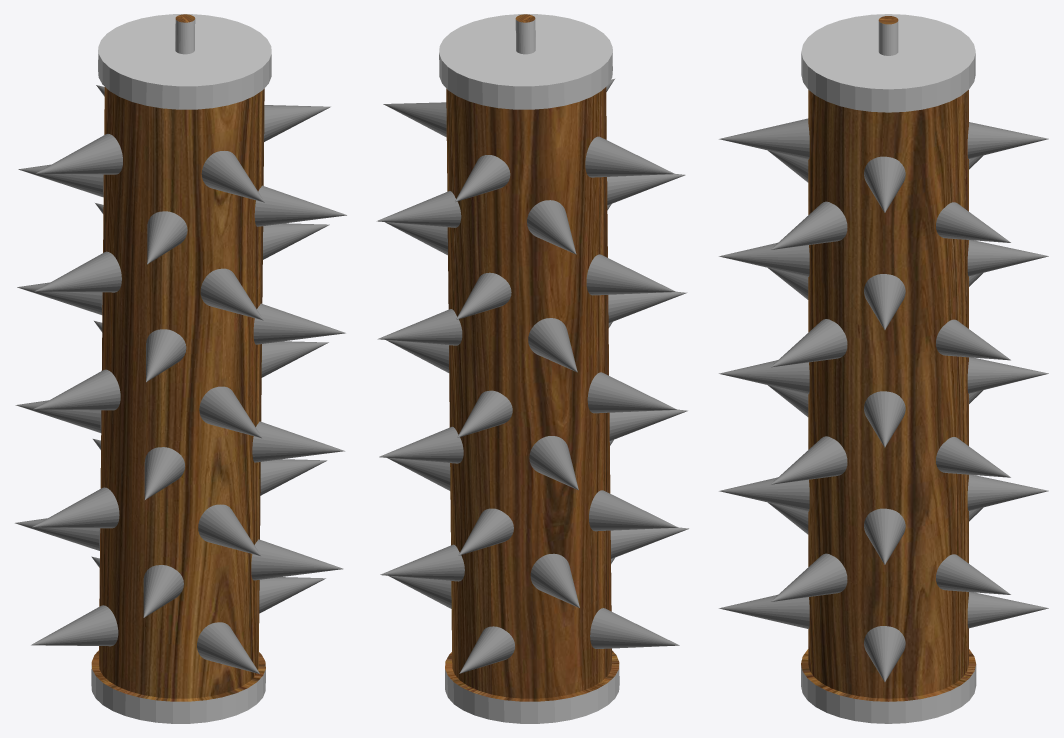
The model's file is 1spikeRoll.fbx.
The picture shows the model from 3 angles, left to right: view 1: azimuth 30°, elevation 25°; view 2: azimuth 150°, elevation 25°; view 3: azimuth 270°, elevation 25°; orthographic projection.
Parts seen in each view (by area): view 1: Cylinder, Cylinder.002, Cone.001, Cone.003, Cone.007, Cone, Cone.004, Cone.006, Cylinder.001; view 2: Cylinder, Cylinder.002, Cone.001, Cone.002, Cone.005, Cone.006, Cone.004, Cone, Cylinder.001; view 3: Cylinder, Cylinder.002, Cone.003, Cone.002, Cone.007, Cone, Cone.005, Cylinder.001, Cone.004.
Part boxes in pixels (left/top/right/bottom): Cylinder: left=91, top=14, right=265, bottom=701; Cylinder.002: left=98, top=14, right=271, bottom=109; Cone.001: left=31, top=134, right=122, bottom=646; Cone.003: left=197, top=151, right=264, bottom=673; Cone.007: left=251, top=185, right=346, bottom=580; Cone: left=259, top=105, right=330, bottom=613; Cone.004: left=143, top=211, right=187, bottom=617; Cone.006: left=15, top=164, right=103, bottom=550; Cylinder.001: left=91, top=666, right=265, bottom=723; Cylinder: left=445, top=14, right=619, bottom=701; Cylinder.002: left=439, top=14, right=612, bottom=109; Cone.001: left=585, top=136, right=679, bottom=648; Cone.002: left=455, top=155, right=514, bottom=673; Cone.005: left=376, top=191, right=464, bottom=581; Cone.006: left=527, top=200, right=579, bottom=607; Cone.004: left=607, top=174, right=688, bottom=558; Cone: left=383, top=102, right=451, bottom=608; Cylinder.001: left=445, top=665, right=619, bottom=723; Cylinder: left=801, top=16, right=975, bottom=701; Cylinder.002: left=801, top=14, right=975, bottom=112; Cone.003: left=719, top=118, right=809, bottom=628; Cone.002: left=967, top=122, right=1048, bottom=628; Cone.007: left=770, top=201, right=847, bottom=601; Cone: left=864, top=156, right=905, bottom=681; Cone.005: left=936, top=202, right=1010, bottom=594; Cylinder.001: left=801, top=664, right=976, bottom=723; Cone.004: left=768, top=150, right=808, bottom=534.
Bounding box in the file's own units: 495 × 1106 × 473.
